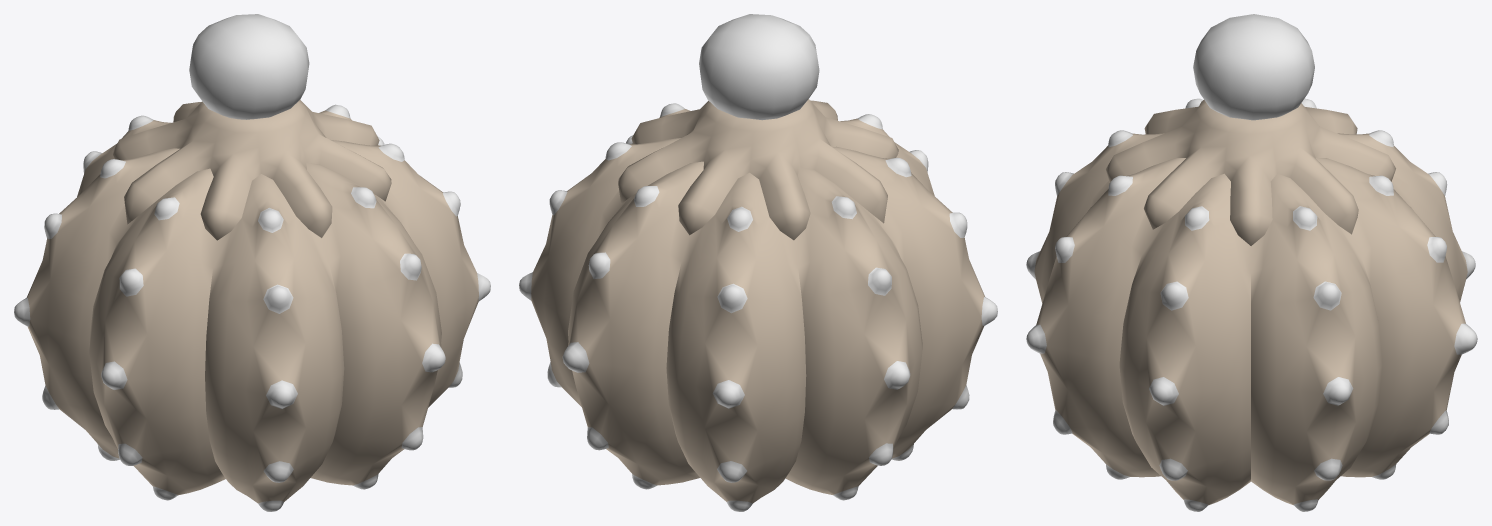
Rendered from Oceanarium_Pearl.fbx.
3 renders of one model, left to right at view 1: azimuth 30°, elevation 25°; view 2: azimuth 150°, elevation 25°; view 3: azimuth 270°, elevation 25°, orthographic.
Parts seen in each view (by area): view 1: Pearl; view 2: Pearl; view 3: Pearl.
Boxes of the visible parts, box(x1,y1,x2,y2) form: Pearl: box(14, 14, 490, 511); Pearl: box(519, 14, 997, 511); Pearl: box(1026, 14, 1477, 511).
Bounding box in the file's own units: 5.74 × 6.18 × 5.76.
